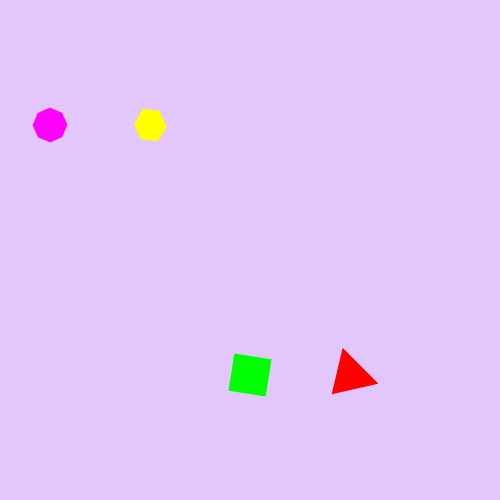hexagon: (129, 107, 172, 143)
octagon: (29, 104, 71, 146)
quadrilateral: (221, 346, 280, 405)
triangle: (325, 349, 375, 402)
